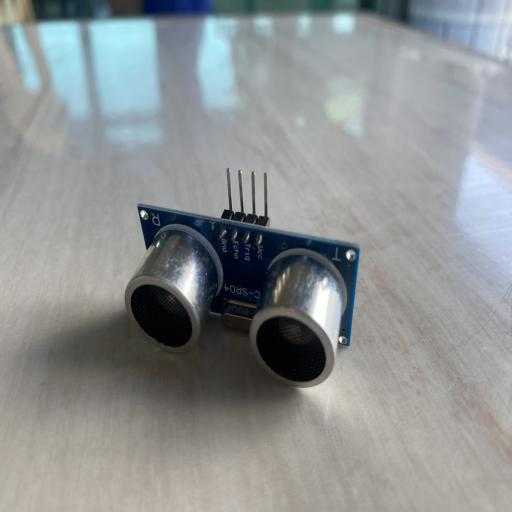Ultrasonic Sensor: (123, 166, 361, 388)
